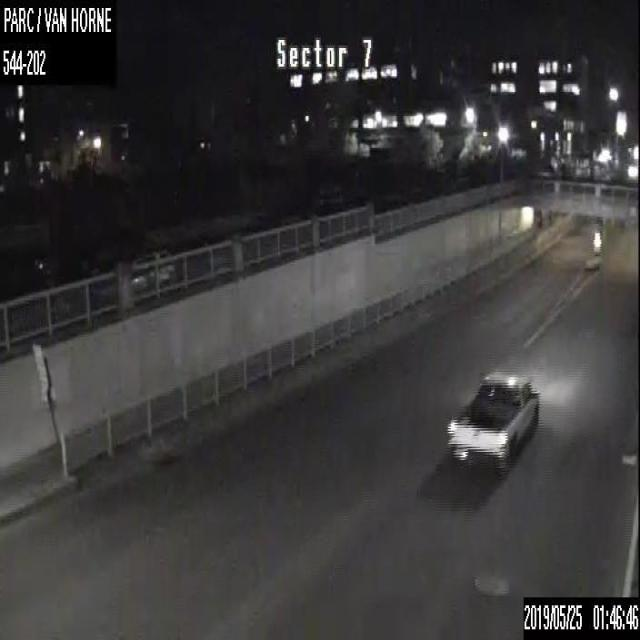vehicle: (446, 369, 538, 468), (88, 243, 173, 300)
